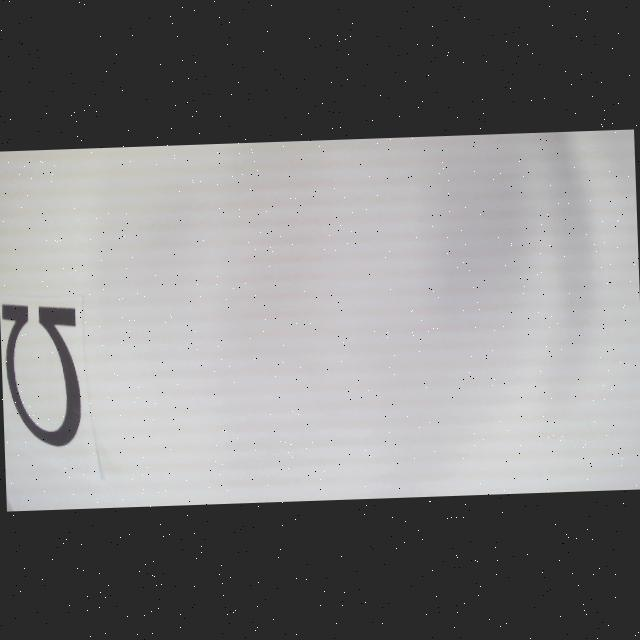OMEGA: (1, 301, 82, 448)
